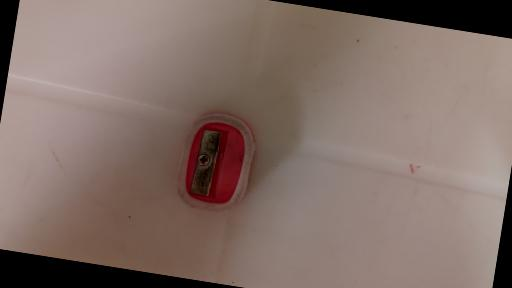Sharpener: (172, 110, 258, 218)
